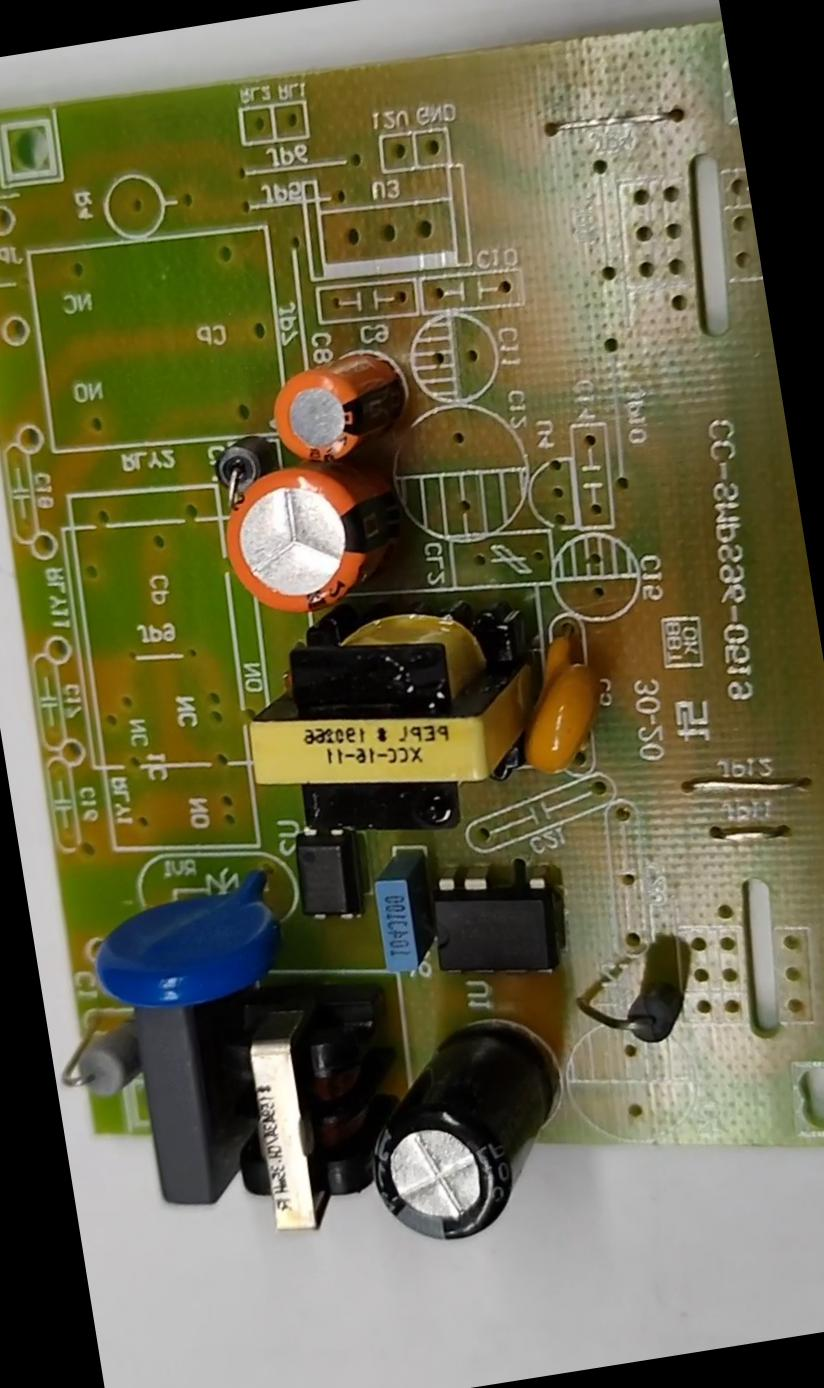Cap1: (215, 456, 396, 624)
Cap2: (267, 346, 409, 466)
Cap3: (356, 1016, 574, 1250)
MOSFET: (427, 869, 566, 990)
Mov: (85, 868, 290, 1018)
Resistor: (56, 1022, 136, 1094)
Transformer: (232, 590, 546, 839), (220, 1019, 372, 1240)
